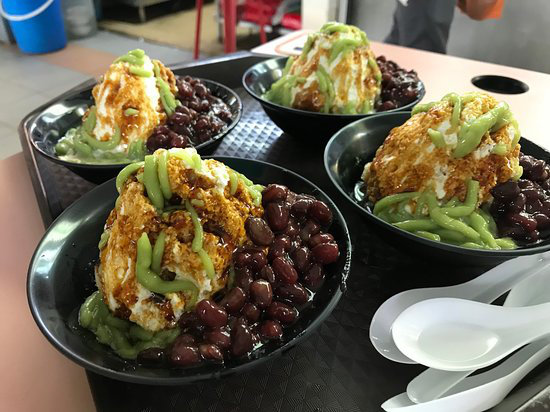Chendol: (74, 162, 328, 379), (360, 85, 549, 251), (56, 40, 234, 155), (264, 10, 425, 115)
